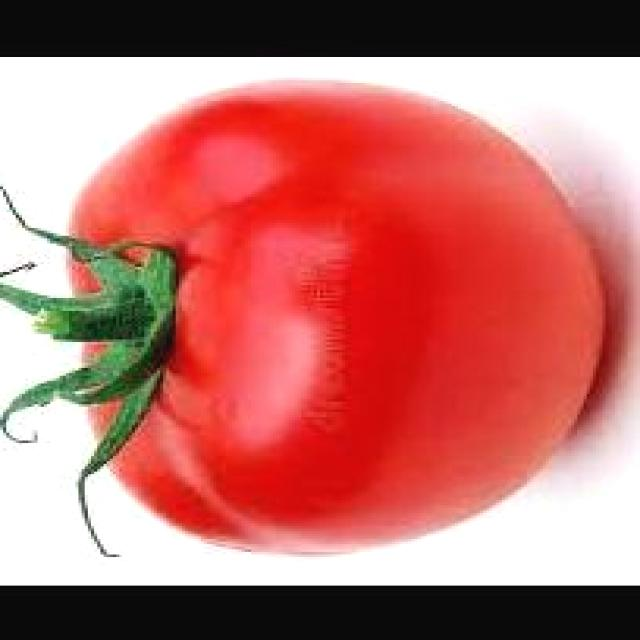tomato: (70, 78, 614, 564)
